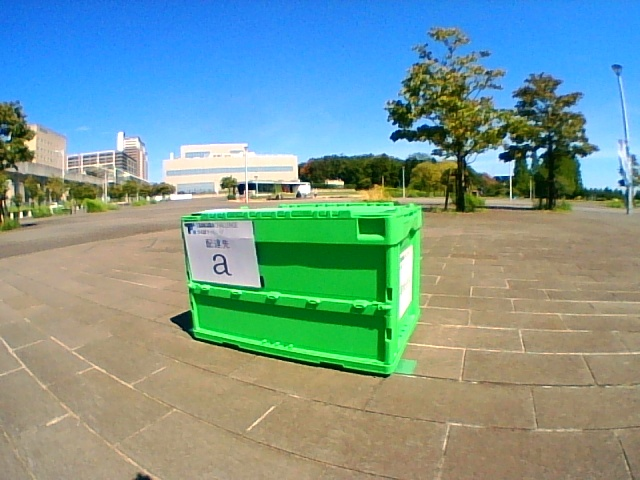green_box: (183, 201, 423, 374)
tag_a: (193, 225, 249, 282)
